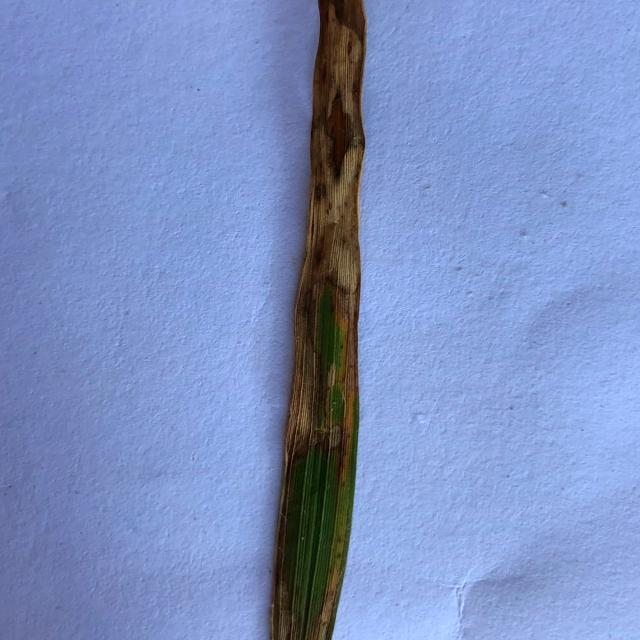leaf blight: (284, 0, 370, 467), (267, 539, 350, 640)
